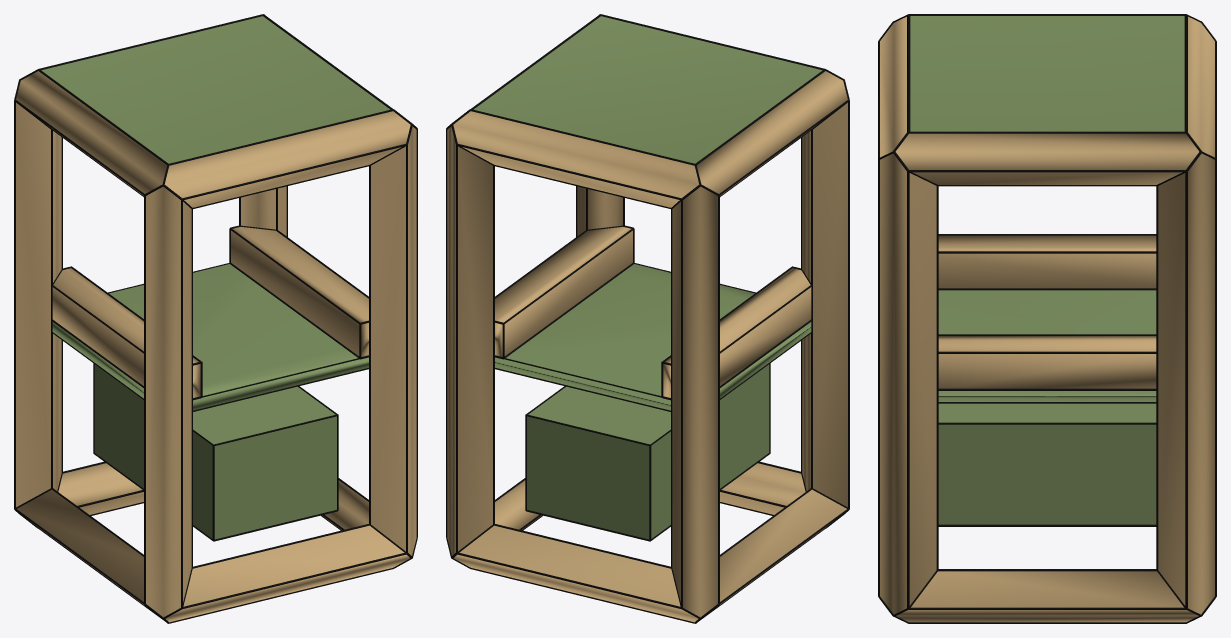
File: 001-table-chevet-petite.glb
The picture shows the model from 3 angles, left to right: view 1: azimuth 30°, elevation 25°; view 2: azimuth 150°, elevation 25°; view 3: azimuth 270°, elevation 25°; orthographic projection. The views are drawn at different scales.
Parts seen in each view (by area): view 1: panneau-dessus_exterieur, mod-drawer-0, arete-Z0, arete-Z1, tablette-plate-mod-0, arete-Z2, arete-X2, arete-X0, tablette-traverse-right-mod-0, arete-Y2, tablette-traverse-left-mod-0, arete-Y0 (+15 smaller); view 2: panneau-dessus_exterieur, mod-drawer-0, arete-Z2, arete-Z3, tablette-plate-mod-0, arete-Z0, arete-X3, arete-X1, tablette-traverse-right-mod-0, arete-Y2, tablette-traverse-left-mod-0, arete-Y0 (+15 smaller); view 3: panneau-dessus_exterieur, mod-drawer-0, arete-Z1, arete-Z3, arete-Y3, arete-Y1, tablette-plate-mod-0, tablette-traverse-left-mod-0, tablette-traverse-right-mod-0, arete-wire-Z1, arete-wire-Z3, arete-X2 (+9 smaller).
Part boxes in pixels (bbox=[...]): panneau-dessus_exterieur: bbox=[41, 16, 389, 163]; mod-drawer-0: bbox=[94, 364, 336, 539]; arete-Z0: bbox=[146, 186, 191, 617]; arete-Z1: bbox=[371, 126, 416, 555]; tablette-plate-mod-0: bbox=[52, 264, 368, 410]; arete-Z2: bbox=[16, 102, 61, 507]; arete-X2: bbox=[164, 111, 410, 207]; arete-X0: bbox=[165, 525, 409, 622]; tablette-traverse-right-mod-0: bbox=[231, 227, 368, 356]; arete-Y2: bbox=[16, 71, 166, 195]; tablette-traverse-left-mod-0: bbox=[52, 268, 200, 397]; arete-Y0: bbox=[17, 489, 143, 604]; panneau-dessus_exterieur: bbox=[474, 16, 822, 163]; mod-drawer-0: bbox=[527, 364, 769, 539]; arete-Z2: bbox=[672, 186, 717, 617]; arete-Z3: bbox=[447, 126, 492, 555]; tablette-plate-mod-0: bbox=[495, 264, 811, 410]; arete-Z0: bbox=[802, 102, 847, 507]; arete-X3: bbox=[453, 111, 699, 207]; arete-X1: bbox=[454, 525, 698, 622]; tablette-traverse-right-mod-0: bbox=[495, 227, 632, 356]; arete-Y2: bbox=[697, 71, 847, 195]; tablette-traverse-left-mod-0: bbox=[663, 268, 811, 397]; arete-Y0: bbox=[720, 489, 846, 604]; panneau-dessus_exterieur: bbox=[910, 16, 1184, 131]; mod-drawer-0: bbox=[938, 403, 1156, 524]; arete-Z1: bbox=[880, 153, 936, 614]; arete-Z3: bbox=[1158, 153, 1214, 614]; arete-Y3: bbox=[895, 133, 1199, 184]; arete-Y1: bbox=[896, 571, 1198, 622]; tablette-plate-mod-0: bbox=[938, 290, 1156, 401]; tablette-traverse-left-mod-0: bbox=[938, 235, 1156, 288]; tablette-traverse-right-mod-0: bbox=[938, 336, 1156, 388]; arete-wire-Z1: bbox=[878, 151, 938, 609]; arete-wire-Z3: bbox=[1156, 159, 1216, 609]; arete-X2: bbox=[880, 16, 906, 157].
Bounding box in the file's own units: 0.3309 × 0.5309 × 0.3309.
